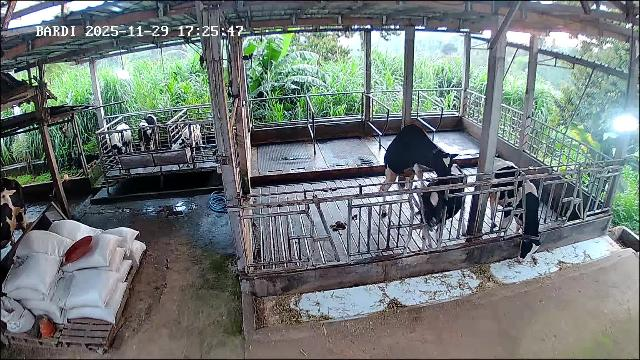mounting: (374, 123, 456, 206)
